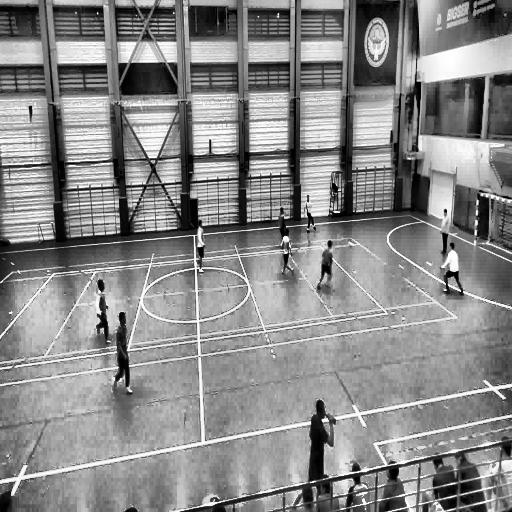ball: (348, 240, 355, 249)
player: (307, 400, 335, 504), (112, 310, 134, 394), (442, 240, 462, 294), (96, 279, 110, 343), (318, 239, 335, 290), (439, 205, 454, 258), (280, 226, 294, 278), (195, 220, 206, 273), (305, 194, 317, 231)
